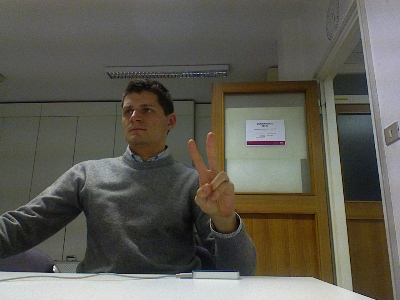剪刀: (186, 130, 236, 219)
